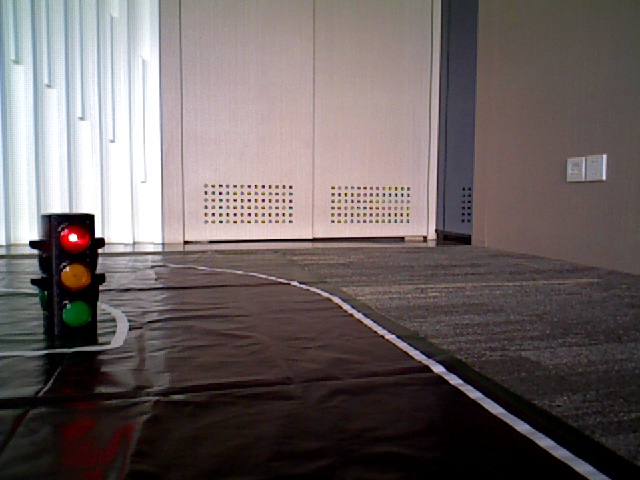red: (43, 217, 98, 342)
